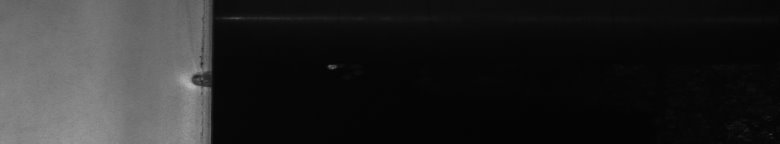hb: (178, 62, 200, 96)
